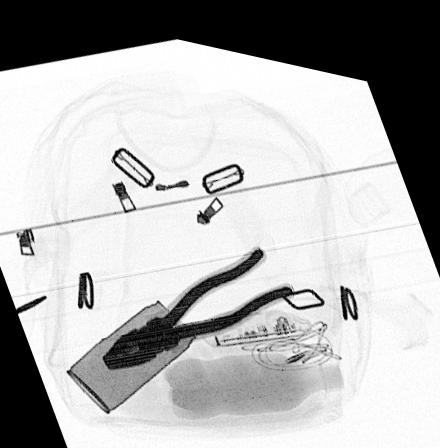Pliers: (100, 232, 295, 367)
